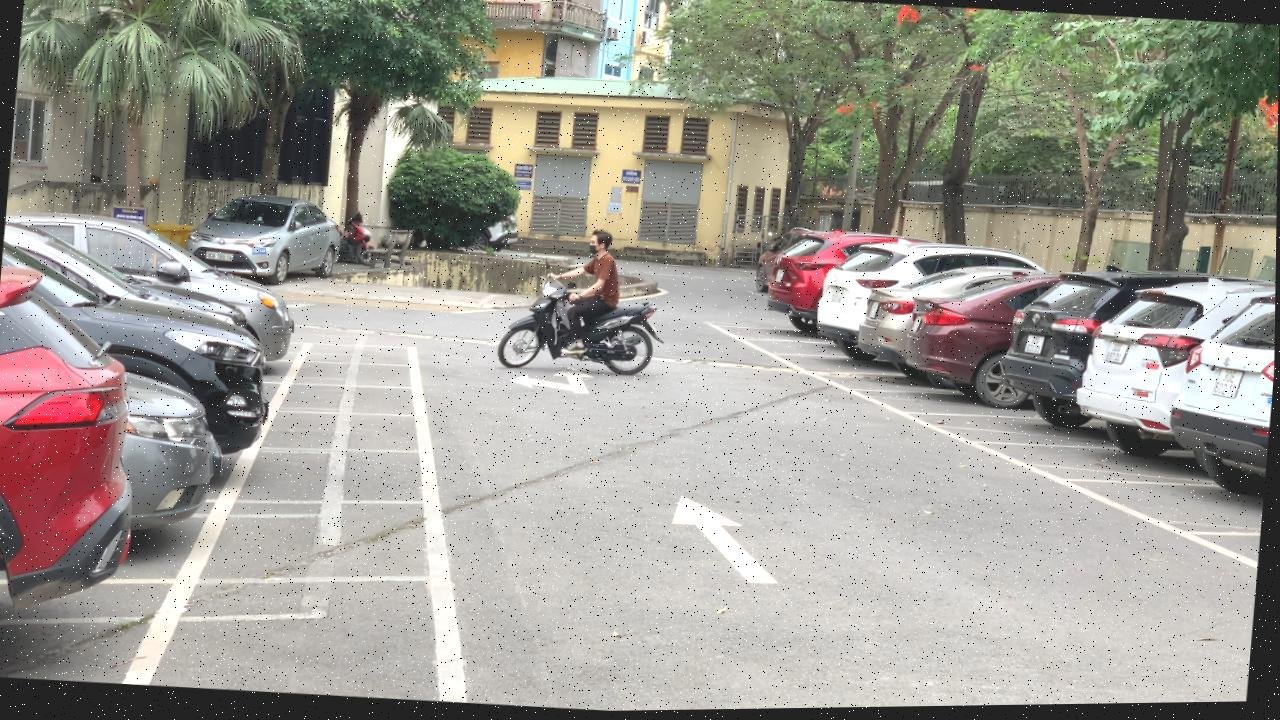motorcyclist: (492, 223, 677, 384)
